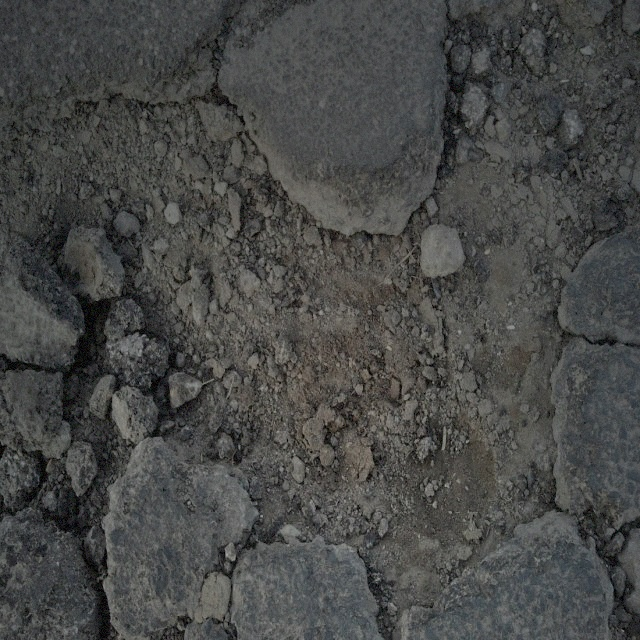pothole: (84, 68, 573, 586)
